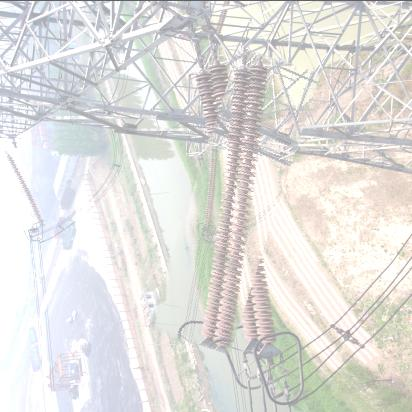insulator: (171, 50, 301, 352), (9, 146, 42, 230)
